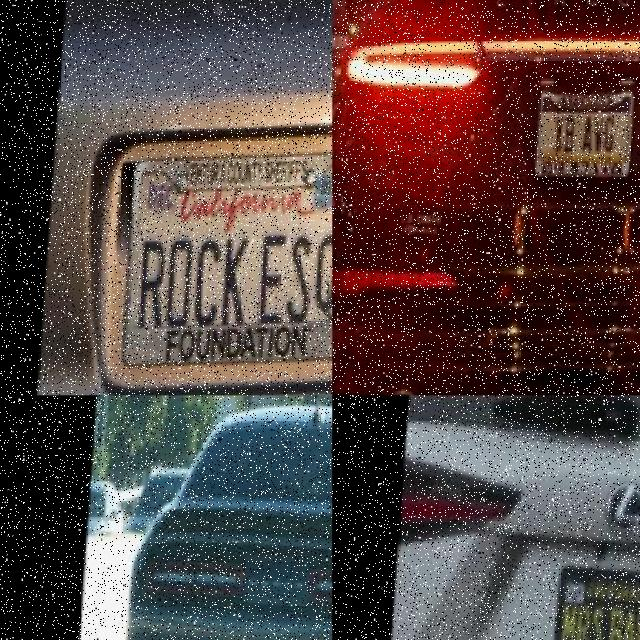licenseplate: (117, 142, 332, 384), (531, 97, 633, 185), (551, 563, 640, 640)
